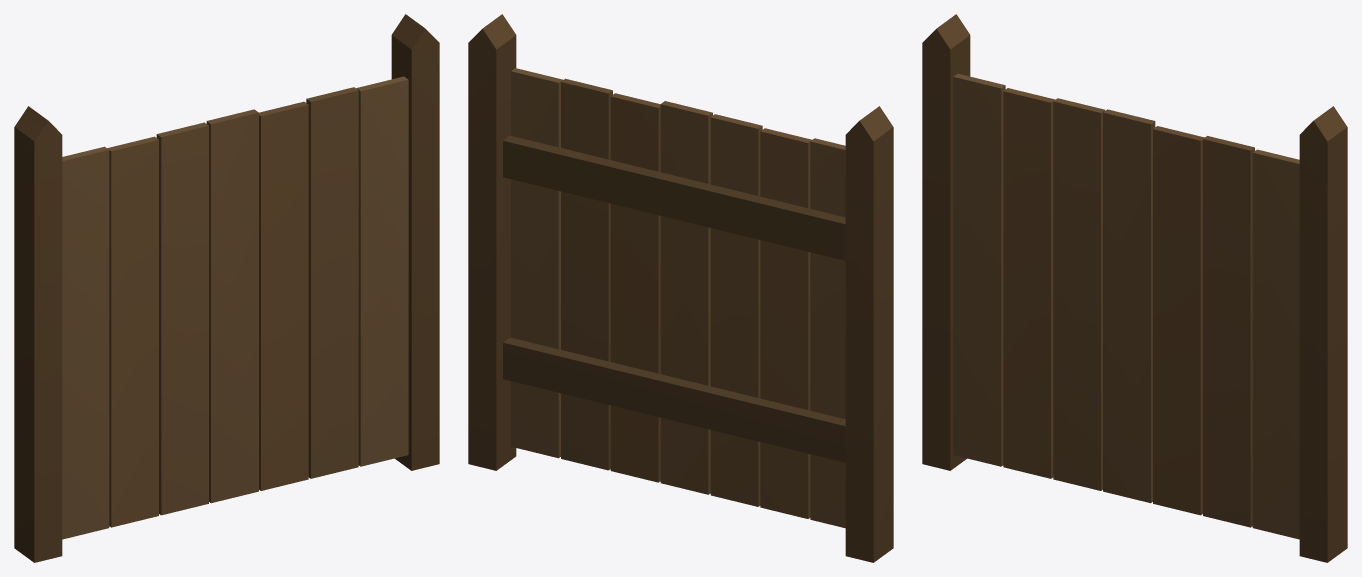
Rendered from fence.rail.planks.glb.
The picture shows the model from 3 angles, left to right: view 1: azimuth 30°, elevation 25°; view 2: azimuth 150°, elevation 25°; view 3: azimuth 330°, elevation 25°; orthographic projection.
Visible parts, largest first — view 1: fence_rail_planks; view 2: fence_rail_planks; view 3: fence_rail_planks.
Boxes of the visible parts, <box> form: fence_rail_planks: <box>14,14,439,562</box>; fence_rail_planks: <box>468,14,893,562</box>; fence_rail_planks: <box>922,14,1347,562</box>.
Size of what is drawn, in the model's own units: 1.16 by 1.2 by 0.099.
